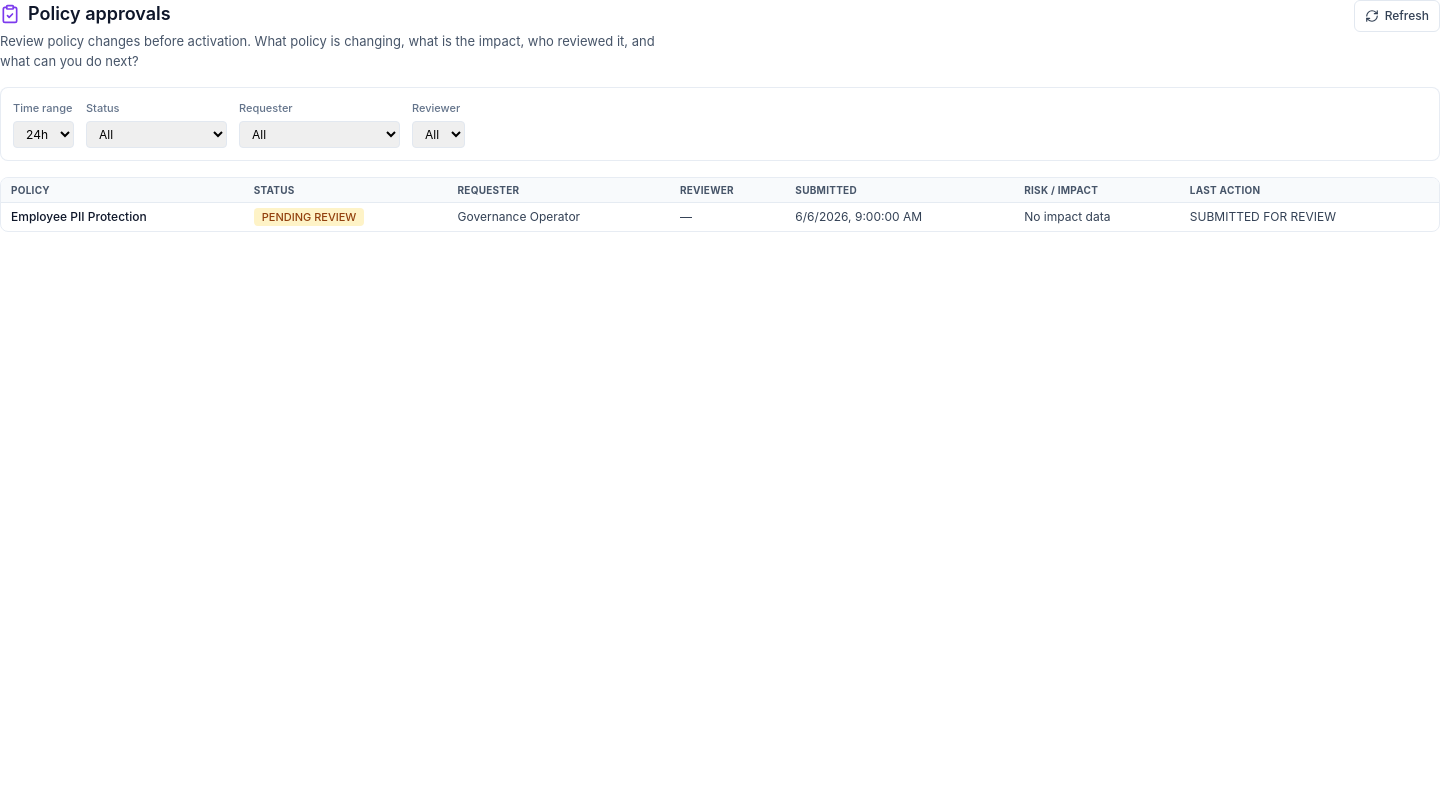
Test: ApprovalWorkflowPage › opens detail drawer on row click
The width and height of the screenshot is (1440, 810).
Click the row with test id "approval-row-7" at (79, 217), box [1, 202, 1439, 231]
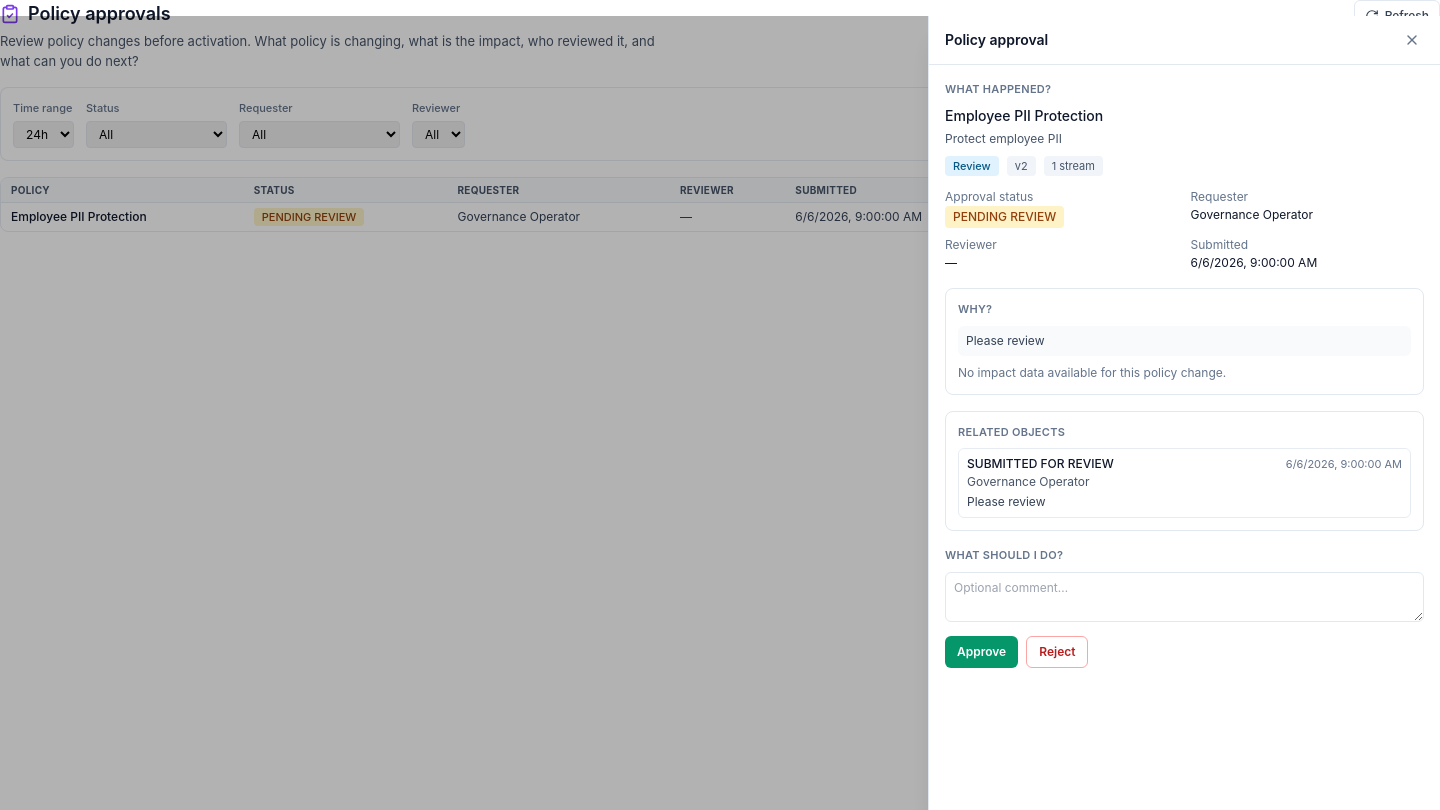
Check: the element with test id "approval-detail-drawer" is shown, box [928, 16, 1439, 809]
Check: the element with test id "approval-section-policy-summary" shows "Employee PII Protection", box [945, 106, 1103, 124]
Check: the button with test id "approval-action-approve" is shown, box [945, 636, 1018, 668]
